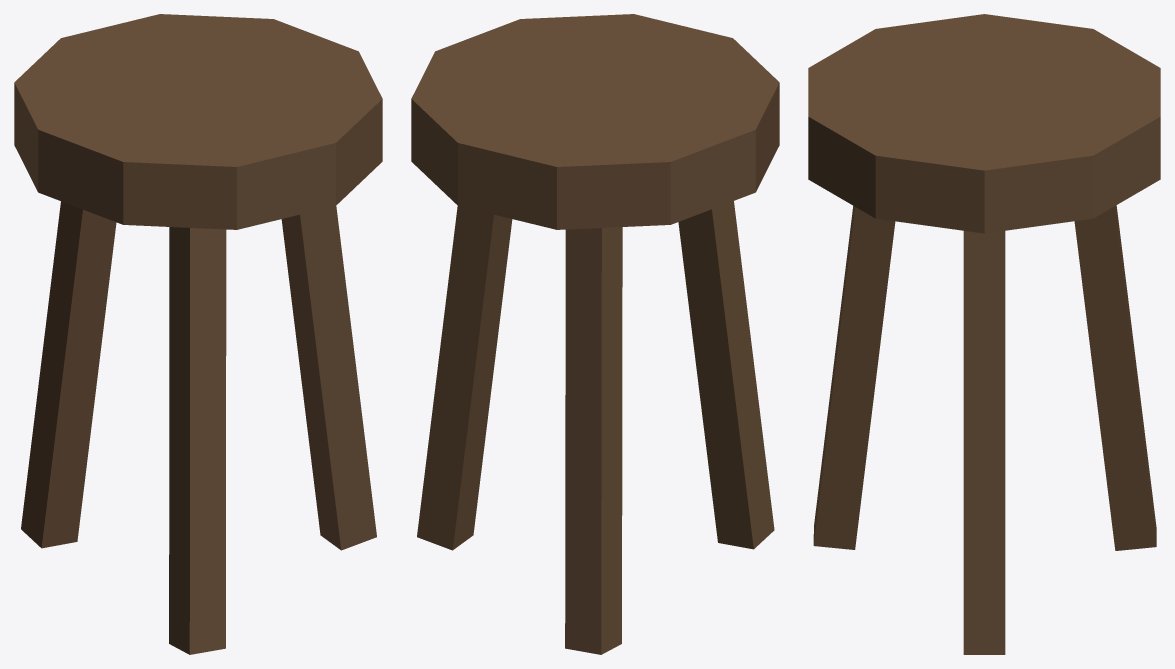
The model's file is stool.fbx.
3 renders of one model, left to right at view 1: azimuth 30°, elevation 25°; view 2: azimuth 150°, elevation 25°; view 3: azimuth 270°, elevation 25°, orthographic.
Visible parts, largest first — view 1: stool; view 2: stool; view 3: stool.
Part boxes in pixels (x1,y1,x2,y2): stool: [14, 14, 382, 654]; stool: [411, 14, 779, 654]; stool: [808, 14, 1160, 654].
Size of the model in its own units: 164 by 232 by 152.
